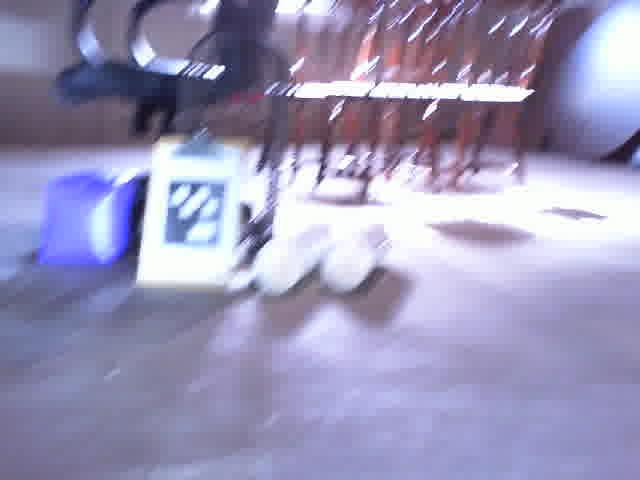coral: (250, 219, 333, 298), (322, 221, 396, 296)
